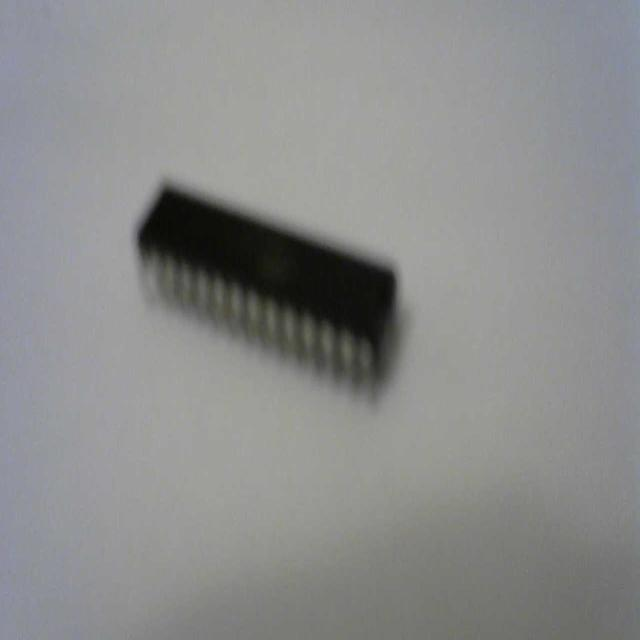atmega: (134, 175, 402, 400)
